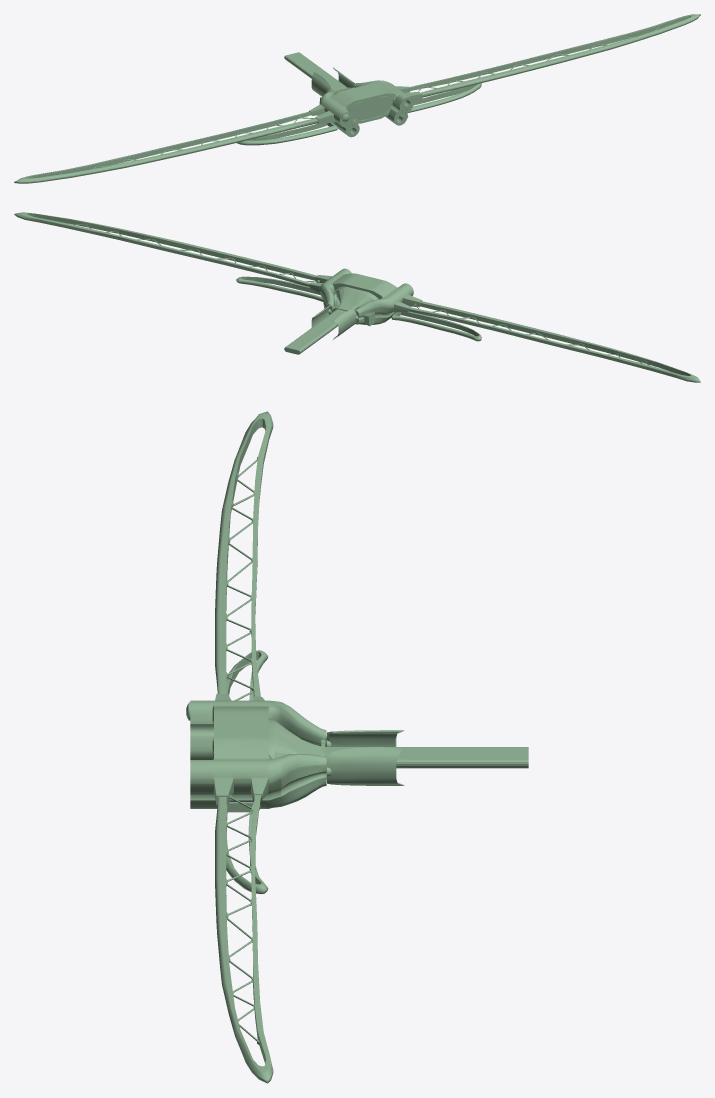
File: Darringerwithbooster.obj
The picture shows the model from 3 angles, top to bottom: view 1: azimuth 30°, elevation 25°; view 2: azimuth 150°, elevation 25°; view 3: azimuth 270°, elevation 25°; orthographic projection. The views are drawn at different scales.
Parts seen in each view (by area): view 1: MainBody, pCylinder1, wing_bot_left5, wing_bot_left4, tailfin_right2; view 2: MainBody, pCylinder1, wing_bot_left5, wing_bot_left4, tailfin_right2; view 3: MainBody, pCylinder1, tailfin_right3, tailfin_right2, wing_bot_left4.
Boxes of the visible parts, x1,y1,x2,y2 form: MainBody: (14, 14, 700, 183); pCylinder1: (284, 52, 392, 120); wing_bot_left5: (237, 122, 337, 145); wing_bot_left4: (408, 83, 481, 112); tailfin_right2: (311, 72, 330, 96); MainBody: (14, 212, 700, 382); pCylinder1: (284, 286, 378, 354); wing_bot_left5: (391, 311, 481, 341); wing_bot_left4: (236, 276, 324, 302); tailfin_right2: (333, 310, 356, 339); MainBody: (186, 411, 326, 1083); pCylinder1: (268, 718, 528, 768); tailfin_right3: (326, 747, 404, 785); tailfin_right2: (326, 730, 404, 746); wing_bot_left4: (226, 802, 268, 893).
Bounding box in the file's own units: 304 × 12.58 × 65.74.
